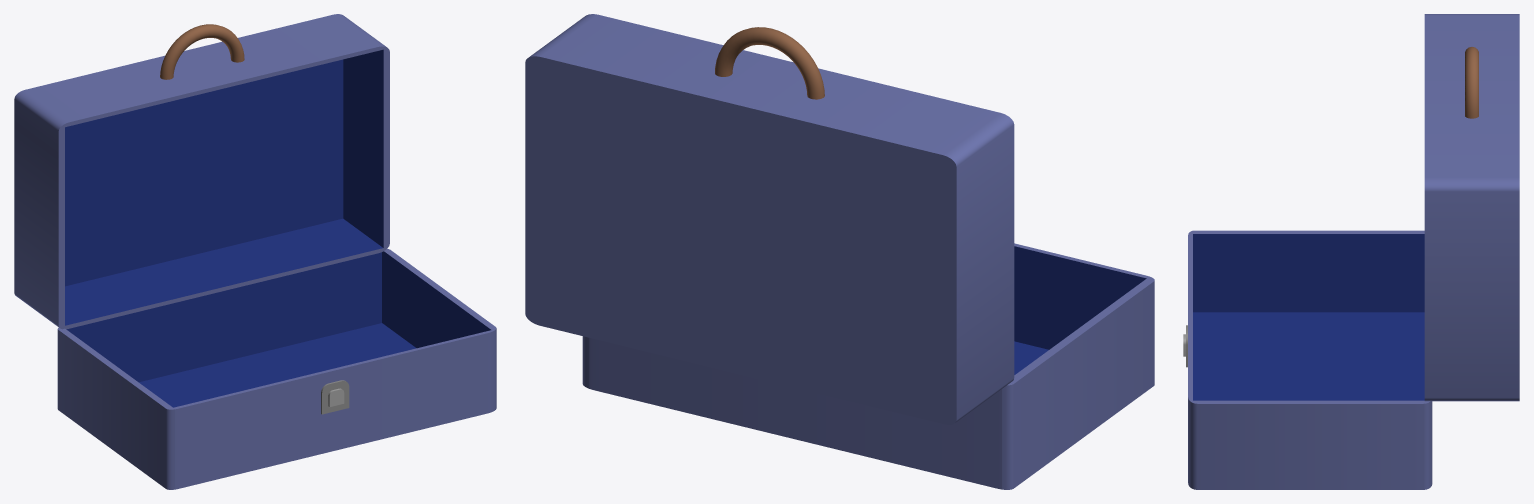
The model's file is suitcase.fbx.
The picture shows the model from 3 angles, left to right: view 1: azimuth 30°, elevation 25°; view 2: azimuth 150°, elevation 25°; view 3: azimuth 270°, elevation 25°; orthographic projection. The views are drawn at different scales.
Parts seen in each view (by area): view 1: Cube, Torus, Cube.002; view 2: Cube, Torus; view 3: Cube, Torus.
Boxes of the visible parts, <box> form: Cube: <box>14,14,496,489</box>; Torus: <box>160,24,244,79</box>; Cube.002: <box>321,380,349,414</box>; Cube: <box>525,14,1154,489</box>; Torus: <box>715,27,824,99</box>; Cube: <box>1188,14,1519,489</box>; Torus: <box>1465,47,1478,118</box>.
Bounding box in the file's own units: 336 × 318 × 276.
